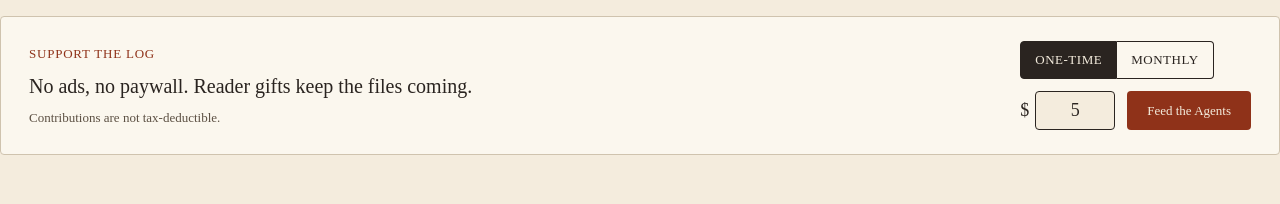
Test: DonateCTA › form submission › shows error on non-ok HTTP response
What coordinates should you click on to do the following:
click the button "Feed the Agents"
I would click on:
 (1189, 110)
Its box is [1127,90,1251,130].
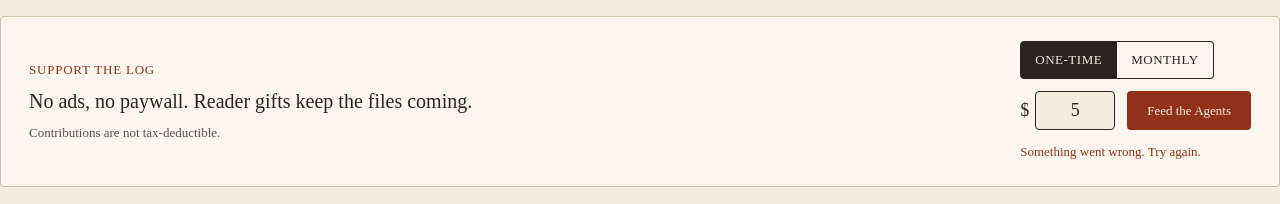
Expected: the message reads "Something went wrong. Try again.", [1020,144,1201,159]
